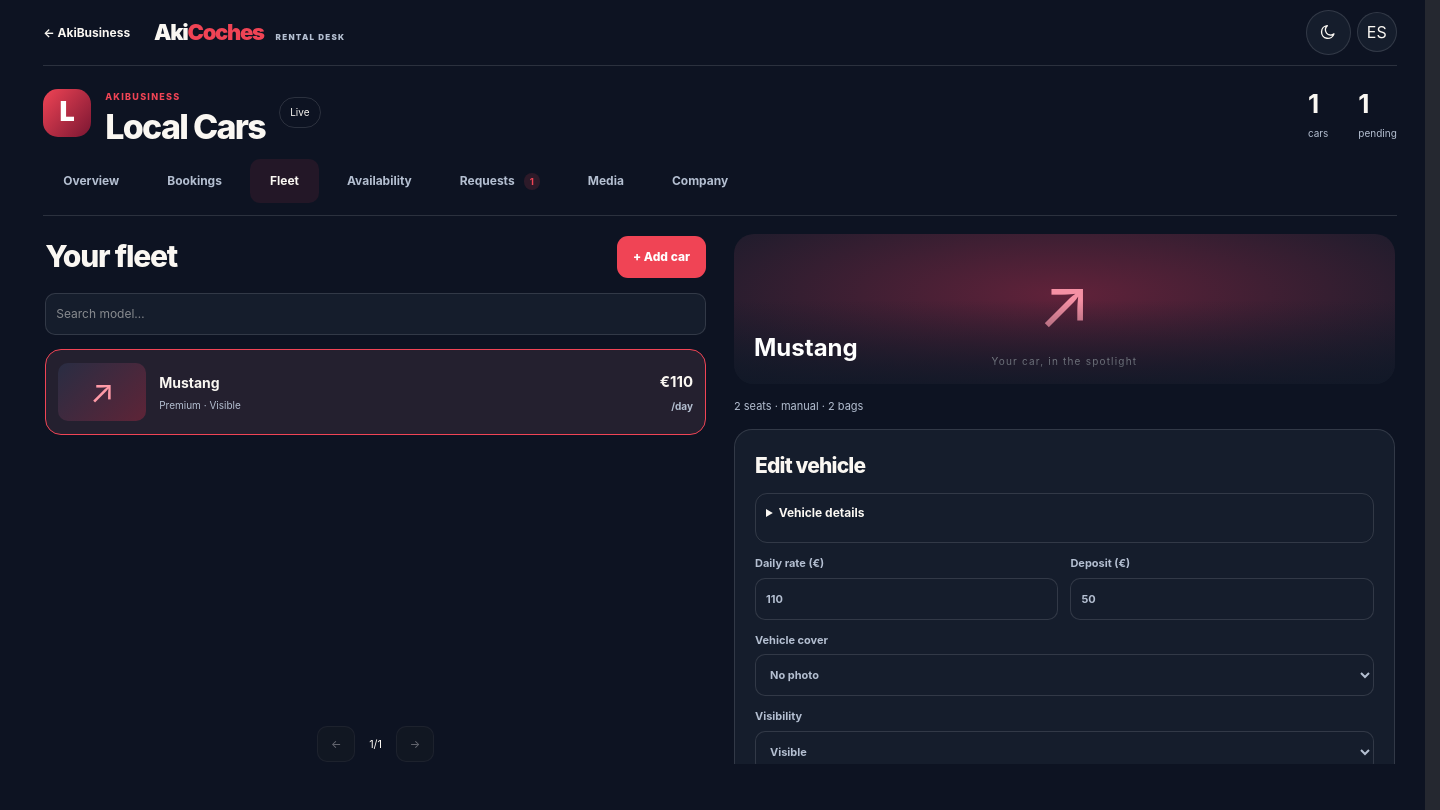
it: rental desk › keeps contact data in the requests view and retains action identifiers
Expected: the text "Fixture Renter" is not shown
Click the button "Requests1" at (500, 181), box [440,159,560,203]
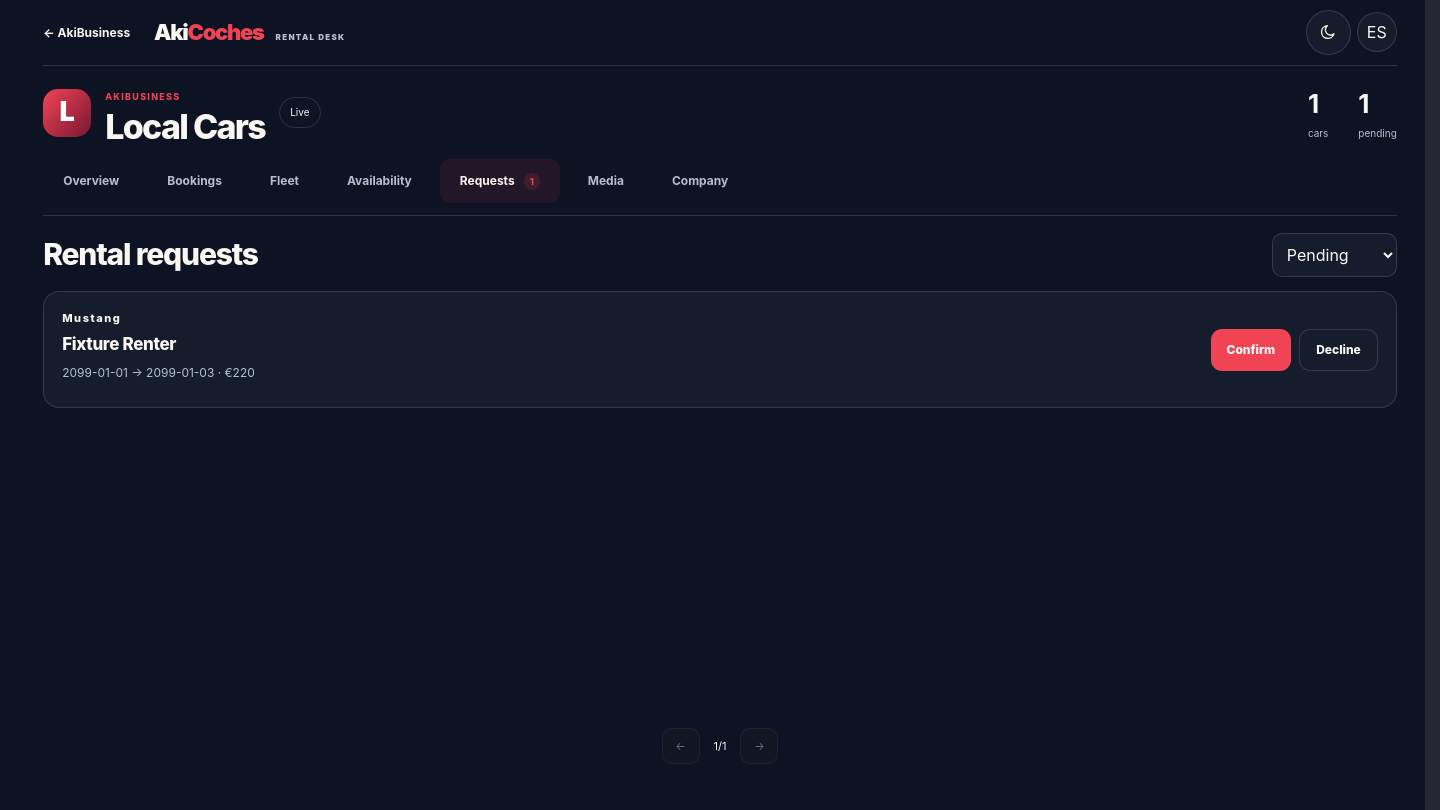
Now the heading "Fixture Renter" is shown, box [62,334,176,354]
